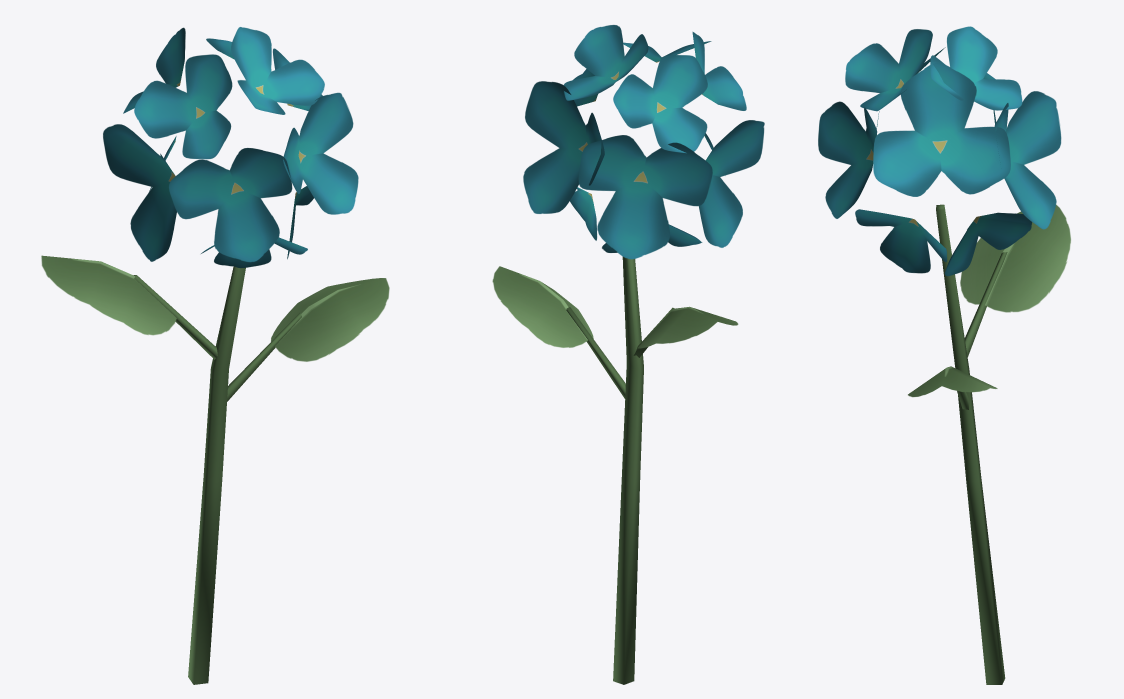
Rendered from flower_1.glb.
The picture shows the model from 3 angles, left to right: view 1: azimuth 30°, elevation 25°; view 2: azimuth 150°, elevation 25°; view 3: azimuth 270°, elevation 25°; orthographic projection. The views are drawn at different scales.
Visible parts, largest first — view 1: Flower_1; view 2: Flower_1; view 3: Flower_1.
Boxes of the visible parts, bbox=[...] form: Flower_1: bbox=[41, 27, 389, 684]; Flower_1: bbox=[492, 25, 764, 684]; Flower_1: bbox=[818, 26, 1070, 684].
Size of the model in its own units: 0.2677 by 0.4894 by 0.2044.
Materials: 1 (1 with a texture image).
